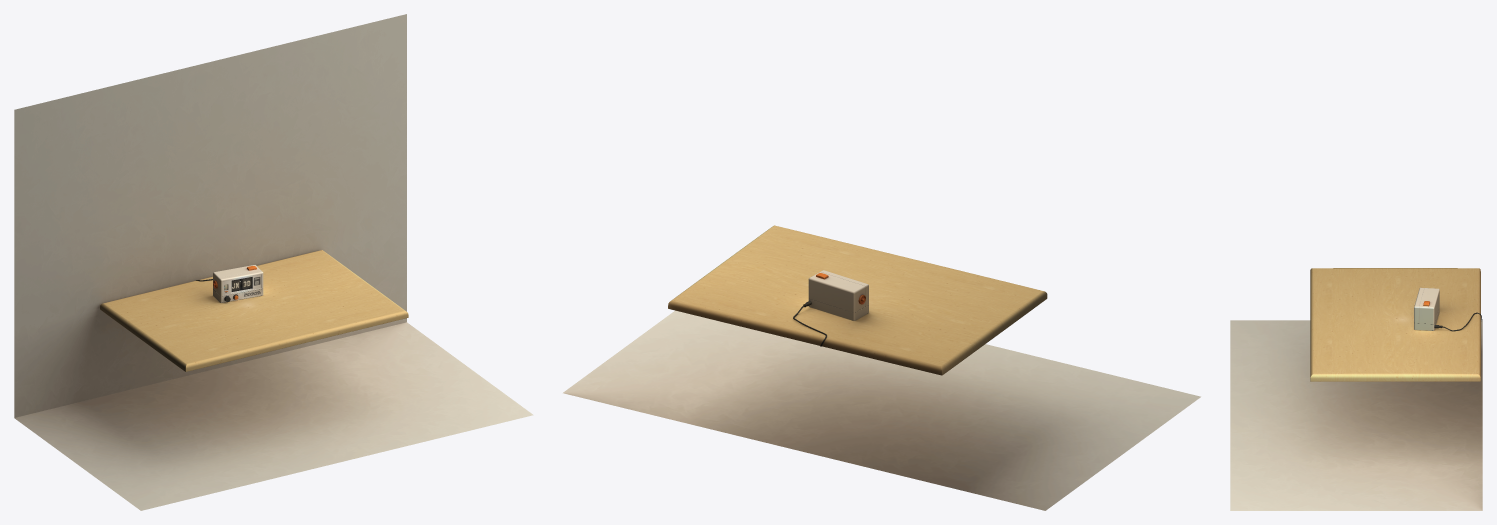
Rendered from Clock_Splash.gltf.
3 renders of one model, left to right at view 1: azimuth 30°, elevation 25°; view 2: azimuth 150°, elevation 25°; view 3: azimuth 270°, elevation 25°, orthographic. The views are drawn at different scales.
Visible parts, largest first — view 1: Wall, Table, ClockShell; view 2: Wall, Table, ClockShell; view 3: Wall, Table, ClockShell.
Part boxes in pixels (<box>): Wall: <box>14,14,533,510</box>; Table: <box>100,250,408,371</box>; ClockShell: <box>213,265,263,302</box>; Wall: <box>563,310,1200,510</box>; Table: <box>668,225,1047,375</box>; ClockShell: <box>808,270,868,320</box>; Wall: <box>1230,320,1482,510</box>; Table: <box>1310,268,1480,381</box>; ClockShell: <box>1414,287,1439,330</box>.
Bounding box in the file's own units: 16 × 12 × 8.95.
